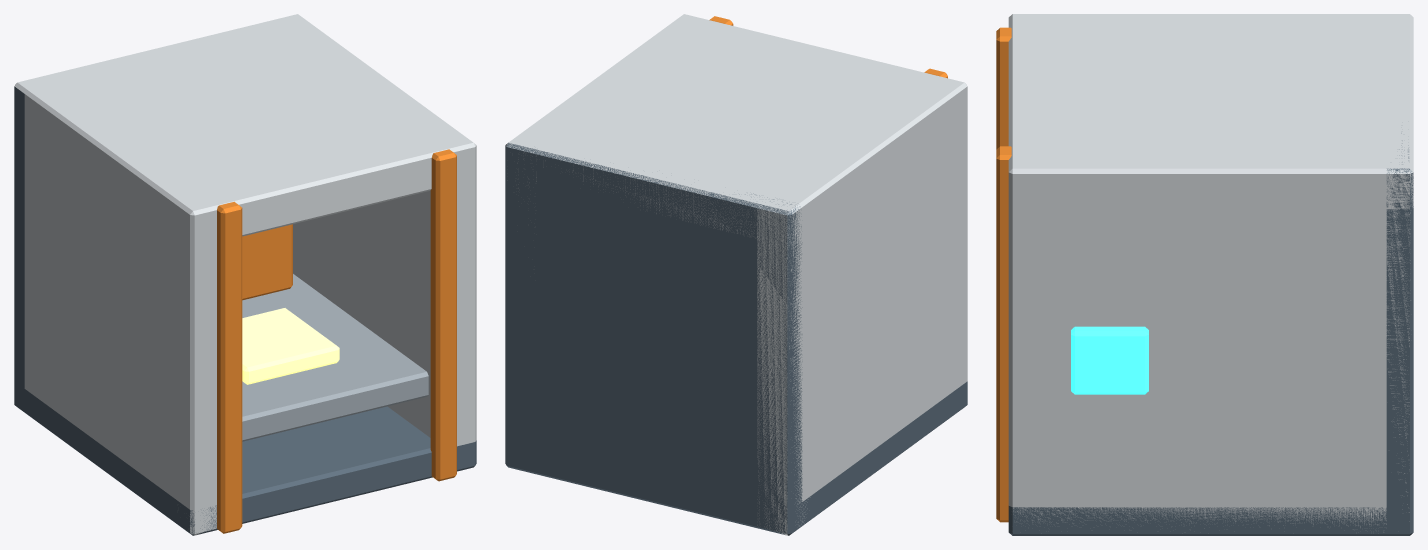
The model's file is machine-assembler.fbx.
3 renders of one model, left to right at view 1: azimuth 30°, elevation 25°; view 2: azimuth 150°, elevation 25°; view 3: azimuth 270°, elevation 25°, orthographic. The views are drawn at different scales.
Visible parts, largest first — view 1: machine-assembler_Crown.001, machine-assembler_Machine column.002, machine-assembler_Machine column.003, machine-assembler_Skid.001, machine-assembler_Working bed.001, machine-assembler_Orange spine.003, machine-assembler_Orange spine.002, machine-assembler_Workpiece.001, machine-assembler_Backplane.001, machine-assembler_Actuator.001; view 2: machine-assembler_Backplane.001, machine-assembler_Crown.001, machine-assembler_Machine column.002, machine-assembler_Skid.001; view 3: machine-assembler_Machine column.003, machine-assembler_Crown.001, machine-assembler_Skid.001, machine-assembler_Backplane.001, machine-assembler_Operator display.001, machine-assembler_Orange spine.003, machine-assembler_Orange spine.002.
Part boxes in pixels (left/top/right/bottom): machine-assembler_Crown.001: left=14, top=14, right=476, bottom=246; machine-assembler_Machine column.002: left=24, top=125, right=216, bottom=535; machine-assembler_Machine column.003: left=293, top=152, right=476, bottom=446; machine-assembler_Skid.001: left=14, top=382, right=476, bottom=535; machine-assembler_Working bed.001: left=242, top=274, right=428, bottom=441; machine-assembler_Orange spine.003: left=430, top=149, right=456, bottom=481; machine-assembler_Orange spine.002: left=217, top=201, right=242, bottom=533; machine-assembler_Workpiece.001: left=242, top=308, right=339, bottom=384; machine-assembler_Backplane.001: left=14, top=86, right=24, bottom=412; machine-assembler_Actuator.001: left=242, top=224, right=292, bottom=300; machine-assembler_Backplane.001: left=505, top=142, right=802, bottom=535; machine-assembler_Crown.001: left=505, top=14, right=967, bottom=246; machine-assembler_Machine column.002: left=757, top=118, right=967, bottom=535; machine-assembler_Skid.001: left=675, top=381, right=967, bottom=532; machine-assembler_Machine column.003: left=1008, top=175, right=1410, bottom=532; machine-assembler_Crown.001: left=1008, top=14, right=1413, bottom=209; machine-assembler_Skid.001: left=1008, top=506, right=1413, bottom=535; machine-assembler_Backplane.001: left=1386, top=133, right=1413, bottom=535; machine-assembler_Operator display.001: left=1071, top=326, right=1148, bottom=394; machine-assembler_Orange spine.003: left=996, top=146, right=1011, bottom=522; machine-assembler_Orange spine.002: left=996, top=27, right=1011, bottom=149.
Size of the model in its own units: 256 by 260 by 268.
